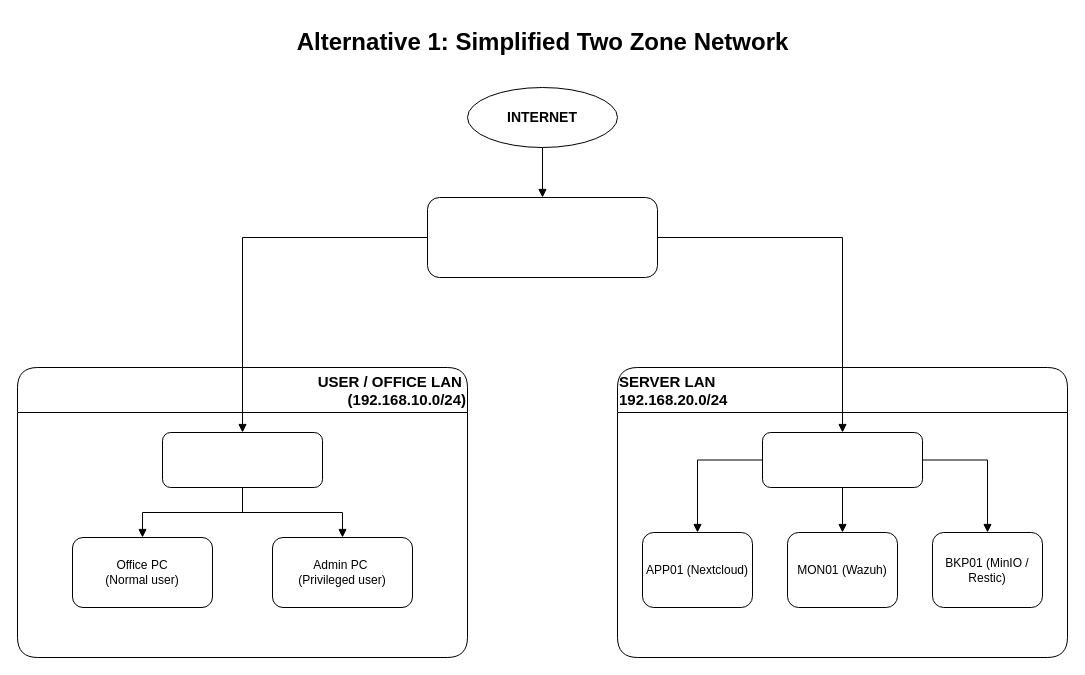
The diagram is 1085 pixels wide and 675 high, and some of its shapes have lost their labels. Each missing label, with the centre of its shape:
"Office Switch" goes at (x=242, y=460).
"pfSense Firewall" goes at (x=542, y=237).
"Server Switch" goes at (x=842, y=460).
